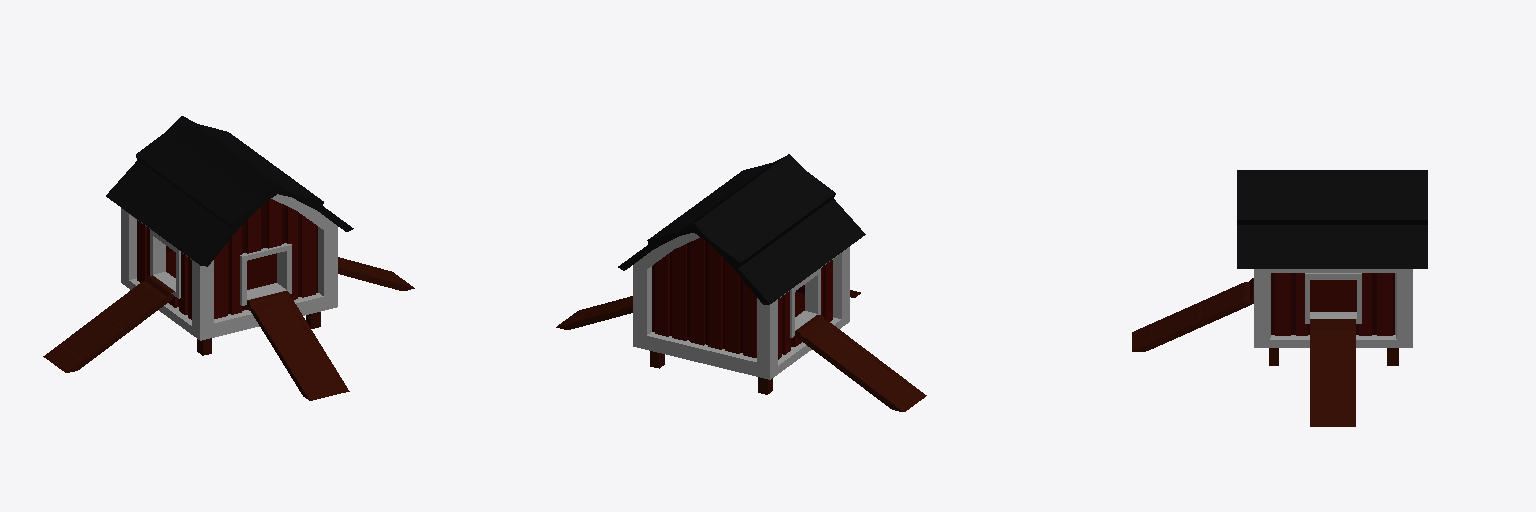
File: ChickenCoop_2.obj
The picture shows the model from 3 angles: view 1: azimuth 30°, elevation 25°; view 2: azimuth 150°, elevation 25°; view 3: azimuth 270°, elevation 25°; orthographic projection.
Parts seen in each view (by area): view 1: ChickenCoop_Cube.015, ChickenCoop_Cube.001, ChickenCoop_Cube.002, ChickenCoop_Cube.003; view 2: ChickenCoop_Cube.015, ChickenCoop_Cube.002, ChickenCoop_Cube.003; view 3: ChickenCoop_Cube.015, ChickenCoop_Cube.003, ChickenCoop_Cube.001.
Boxes of the visible parts, <box> form: ChickenCoop_Cube.015: <box>106,116,353,355</box>; ChickenCoop_Cube.001: <box>247,291,349,400</box>; ChickenCoop_Cube.002: <box>43,275,174,372</box>; ChickenCoop_Cube.003: <box>338,257,414,290</box>; ChickenCoop_Cube.015: <box>618,154,865,394</box>; ChickenCoop_Cube.002: <box>795,315,926,411</box>; ChickenCoop_Cube.003: <box>556,296,632,329</box>; ChickenCoop_Cube.015: <box>1237,170,1427,365</box>; ChickenCoop_Cube.003: <box>1310,319,1355,426</box>; ChickenCoop_Cube.001: <box>1132,278,1253,351</box>.
Size of the model in its own units: 4.03 by 1.91 by 2.96.